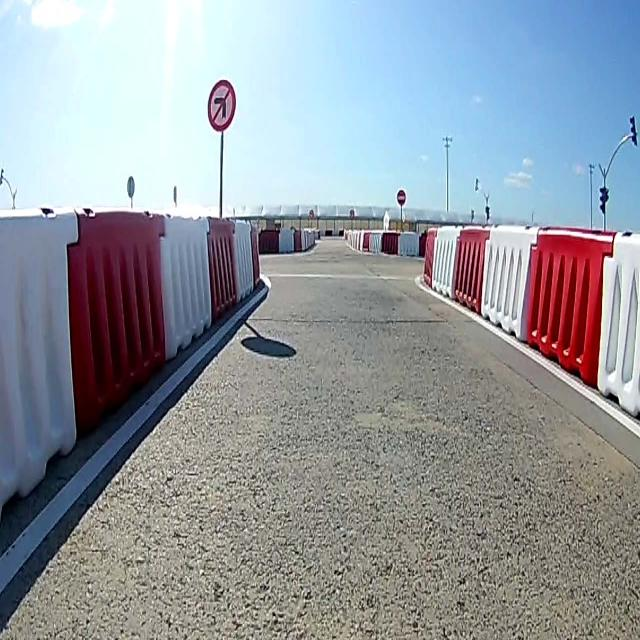girisyok: (396, 189, 406, 206)
soladonulmez: (207, 80, 236, 132)
